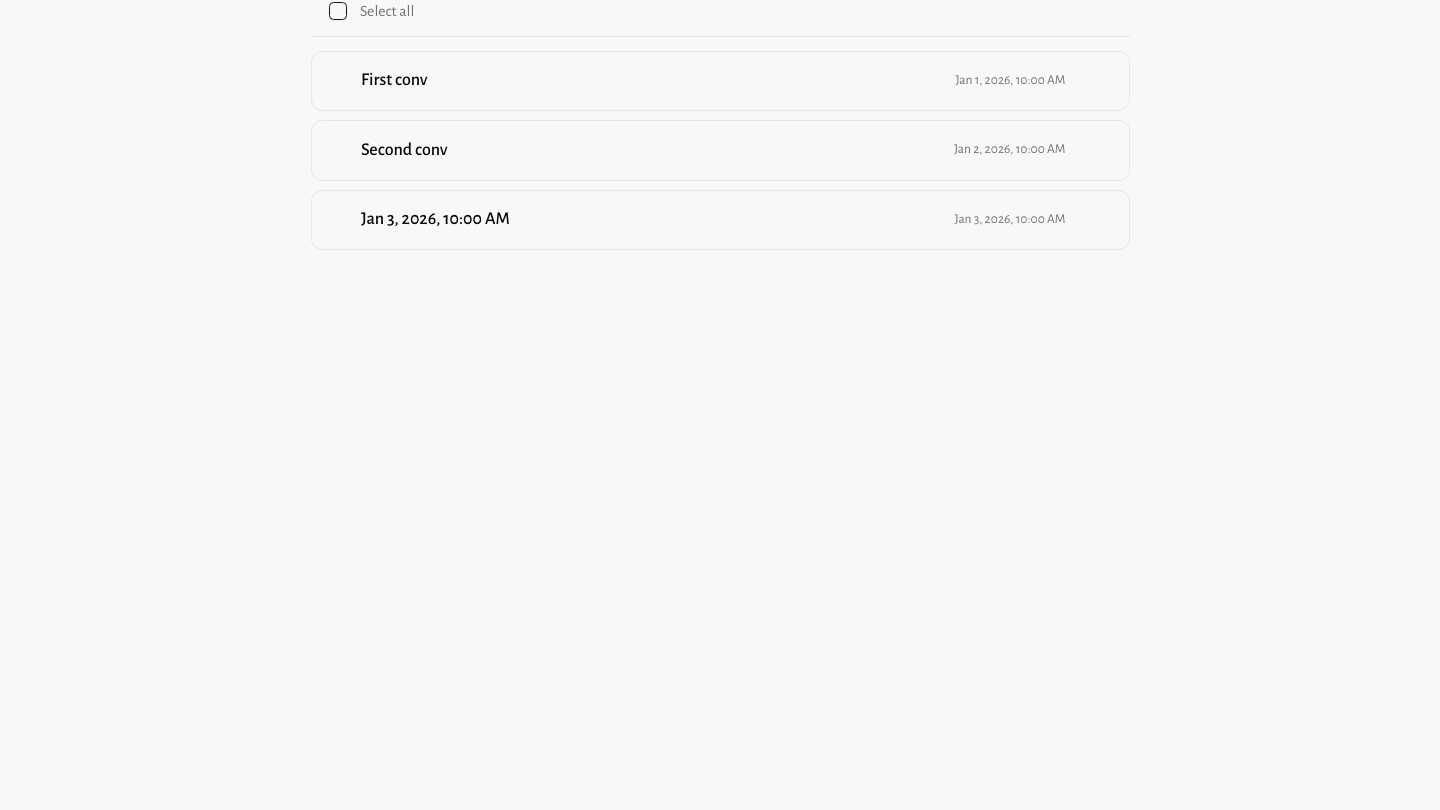
Scenario: ConversationList › should open bulk delete dialog when delete button is clicked
The image size is (1440, 810).
Click the checkbox named "select all" at (338, 11), box x1=328 y1=2 x2=346 y2=20
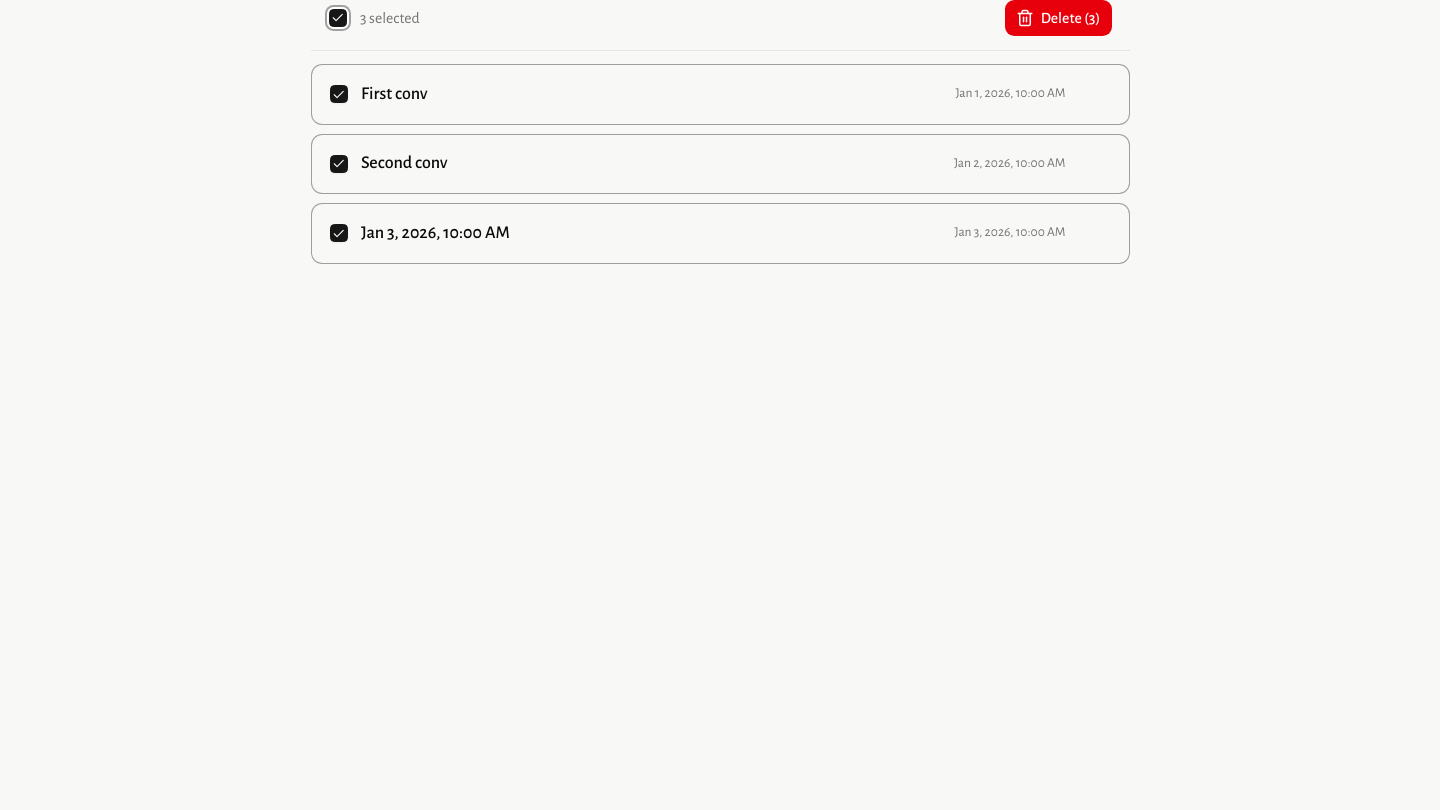
Click the button "Delete (3)" at (1058, 18), box x1=1005 y1=0 x2=1112 y2=36
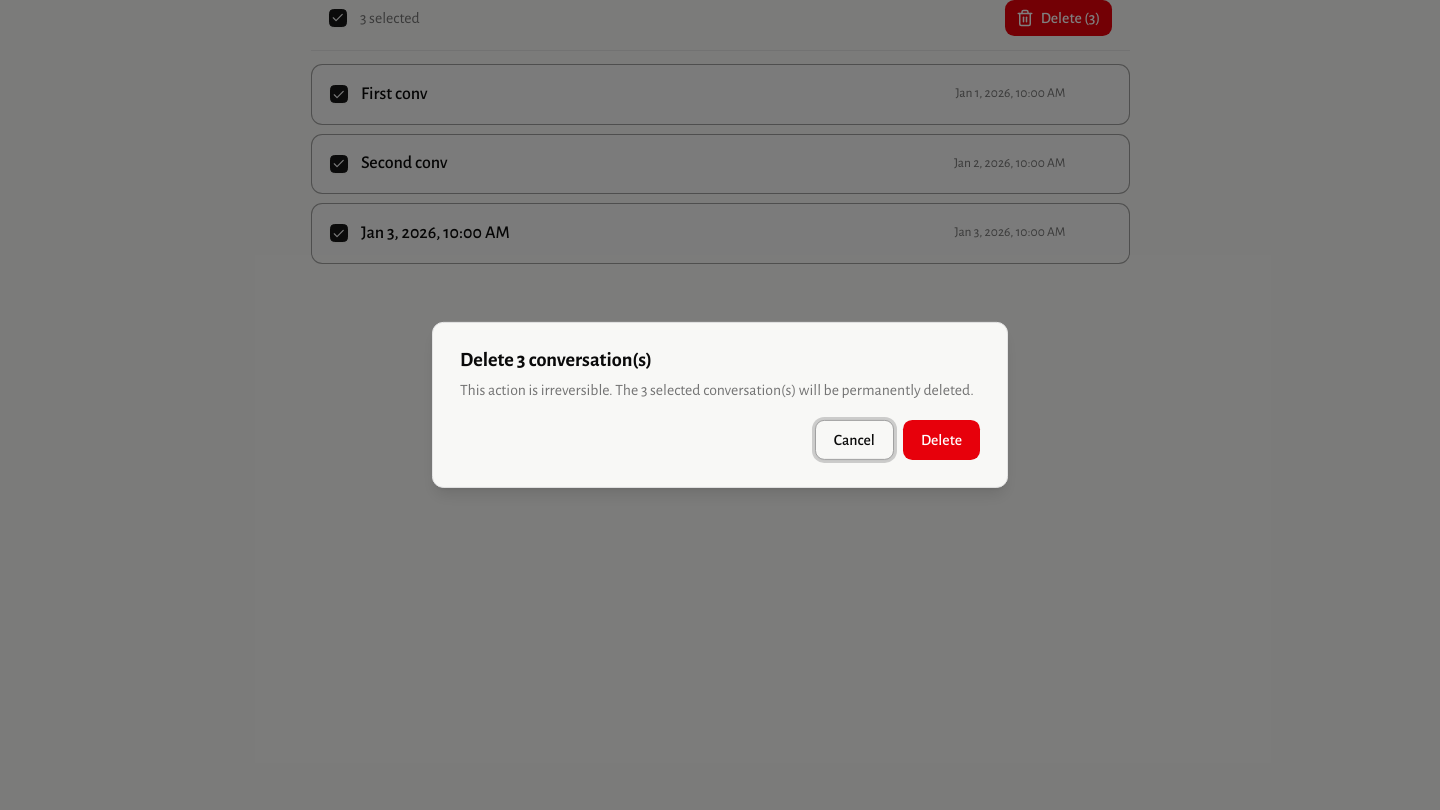
Check: the dialog is shown, box x1=432 y1=322 x2=1008 y2=488
